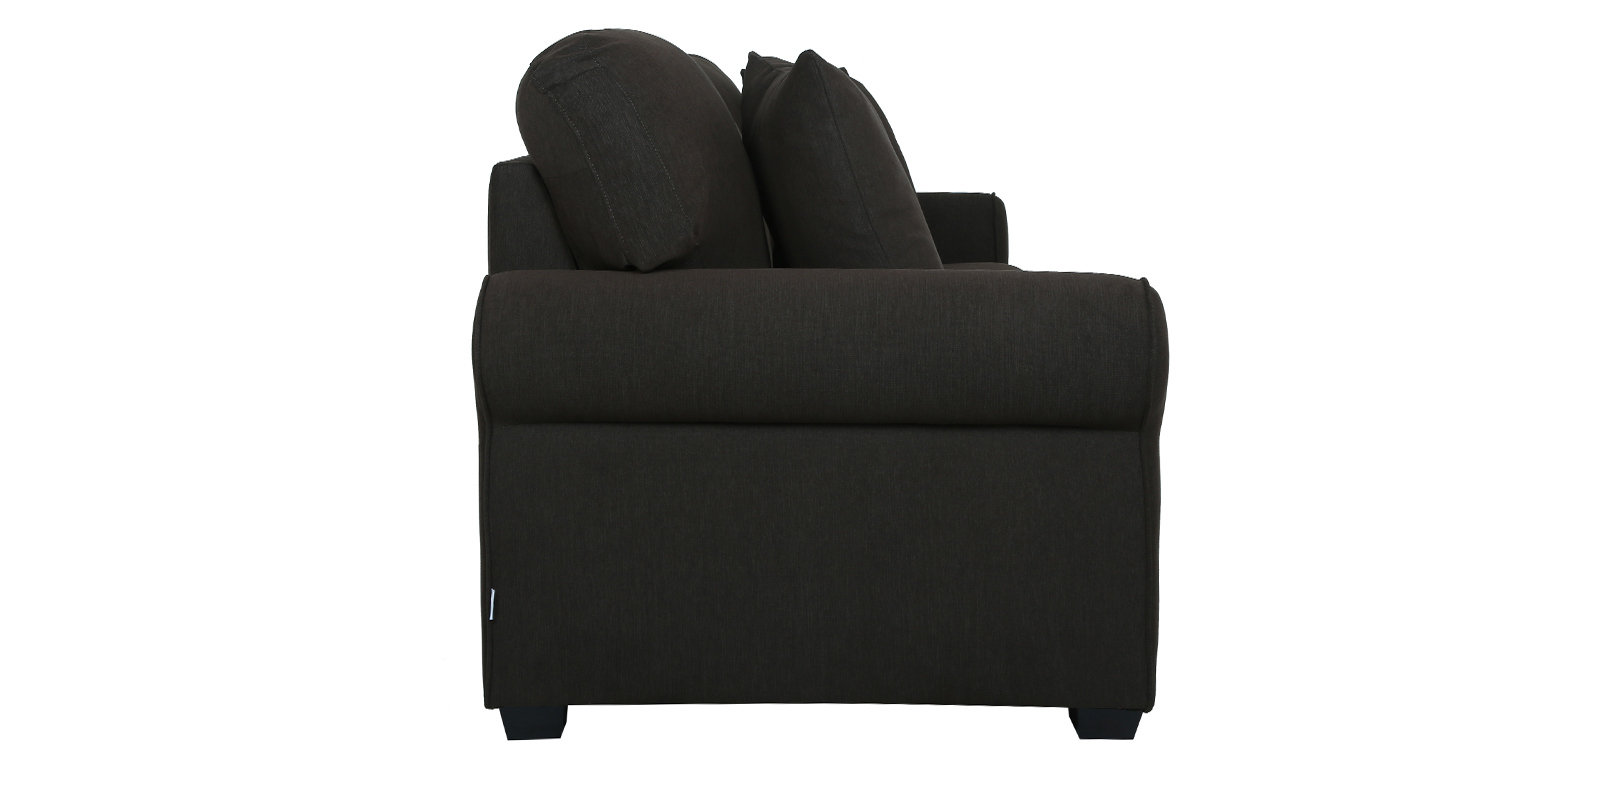Madeira Three Seater Sofa in Chestnut Brown Colour by CasaCraft: (470, 26, 1170, 741)
